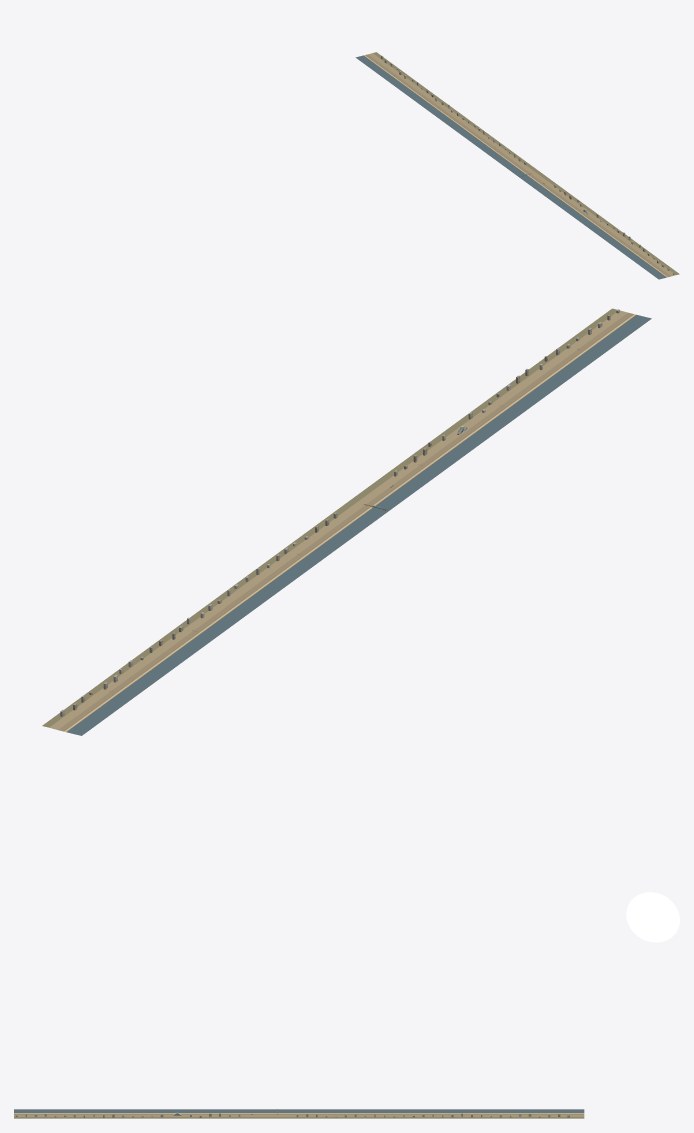
File: daytona.glb
3 renders of one model, top to bottom at view 1: azimuth 30°, elevation 25°; view 2: azimuth 150°, elevation 25°; view 3: azimuth 270°, elevation 25°, orthographic. The views are drawn at different scales.
Visible parts, largest first — view 1: Land_000, Land_002, Land_007, Land_005, Land_006, Land_008, Land_001, Land_003, Land_004; view 2: Land_008, Land_001, Land_006, Land_003, Land_002, Land_000, Land_004, Land_005, Land_007; view 3: Sun, Land_008, Land_001, Land_005, Land_000, Land_002, Land_003, Land_004, Land_006, Land_007.
Boxes of the visible parts, left/top/right/bottom form: Land_000: left=625, top=248, right=679, bottom=279; Land_002: left=558, top=199, right=612, bottom=230; Land_007: left=390, top=76, right=443, bottom=106; Land_005: left=457, top=125, right=510, bottom=156; Land_006: left=423, top=101, right=477, bottom=131; Land_008: left=356, top=52, right=410, bottom=82; Land_001: left=592, top=225, right=645, bottom=254; Land_003: left=524, top=175, right=577, bottom=205; Land_004: left=491, top=151, right=544, bottom=180; Land_008: left=43, top=675, right=145, bottom=735; Land_001: left=486, top=355, right=588, bottom=410; Land_006: left=170, top=584, right=271, bottom=642; Land_003: left=359, top=447, right=461, bottom=503; Land_002: left=423, top=401, right=525, bottom=457; Land_000: left=549, top=308, right=651, bottom=364; Land_004: left=296, top=493, right=398, bottom=549; Land_005: left=233, top=540, right=335, bottom=596; Land_007: left=106, top=632, right=208, bottom=688; Sun: left=626, top=892, right=679, bottom=942; Land_008: left=519, top=1109, right=583, bottom=1118; Land_001: left=77, top=1109, right=140, bottom=1118; Land_005: left=330, top=1109, right=393, bottom=1118; Land_000: left=14, top=1109, right=77, bottom=1118; Land_002: left=140, top=1109, right=203, bottom=1118; Land_003: left=203, top=1109, right=266, bottom=1118; Land_004: left=267, top=1109, right=330, bottom=1118; Land_006: left=393, top=1109, right=456, bottom=1118; Land_007: left=456, top=1109, right=519, bottom=1118.
Size of the model in its own units: 5333 by 1355 by 10108.
